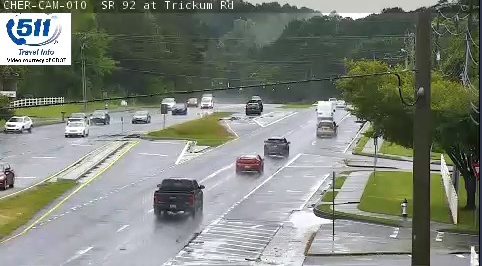car: (154, 179, 203, 211), (236, 154, 263, 172), (264, 138, 288, 155), (316, 120, 335, 137)
van: (317, 103, 334, 123)
